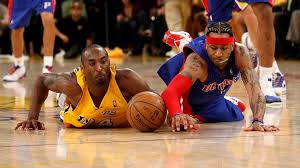fall: (156, 17, 276, 134)
